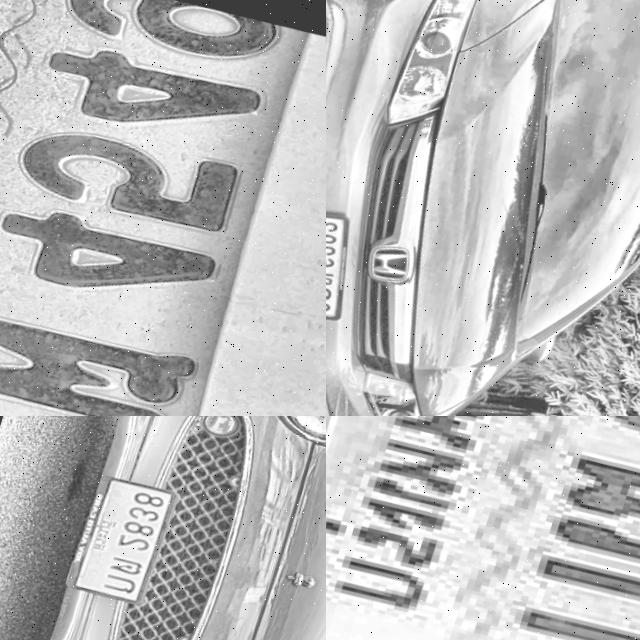license-plate: (0, 0, 326, 416), (326, 416, 640, 640), (63, 471, 180, 609), (326, 193, 380, 335)
